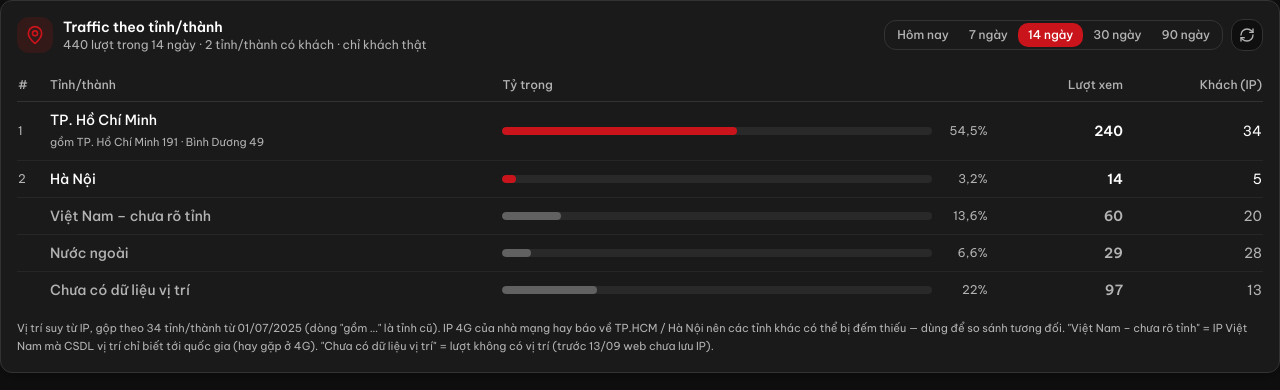
Test: ProvinceTrafficSection — view Hôm nay vs Hôm qua › bấm Hôm nay → gọi view=today, vẽ ba mốc + chênh so với cùng giờ
The width and height of the screenshot is (1280, 390).
Expected: the text "440 lượt trong 14 ngày" is shown, [63,37,427,52]
Click the button "Hôm nay" at (923, 35), box [887,23,959,47]
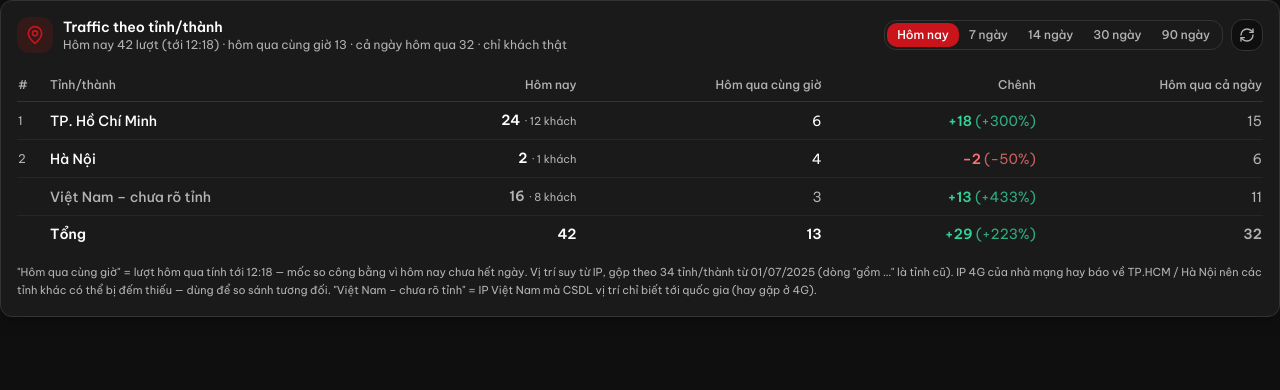
Now the text "Hôm nay 42 lượt (tới 12:18) · hôm qua cùng giờ 13 · cả ngày hôm qua 32 · chỉ khách thật" is shown, box [63,37,567,52]
Now the row "1 TP. Hồ Chí Minh 24· 12 khách 6 +18 (+300%) 15" is shown, box [17,102,1263,140]
Now the row "2 Hà Nội 2· 1 khách 4 −2 (−50%) 6" is shown, box [17,140,1263,178]
